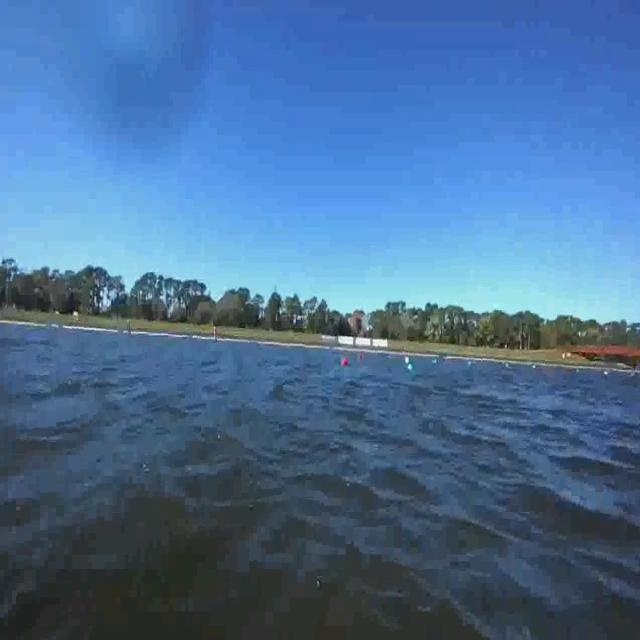red-buoy: (344, 357, 349, 367)
